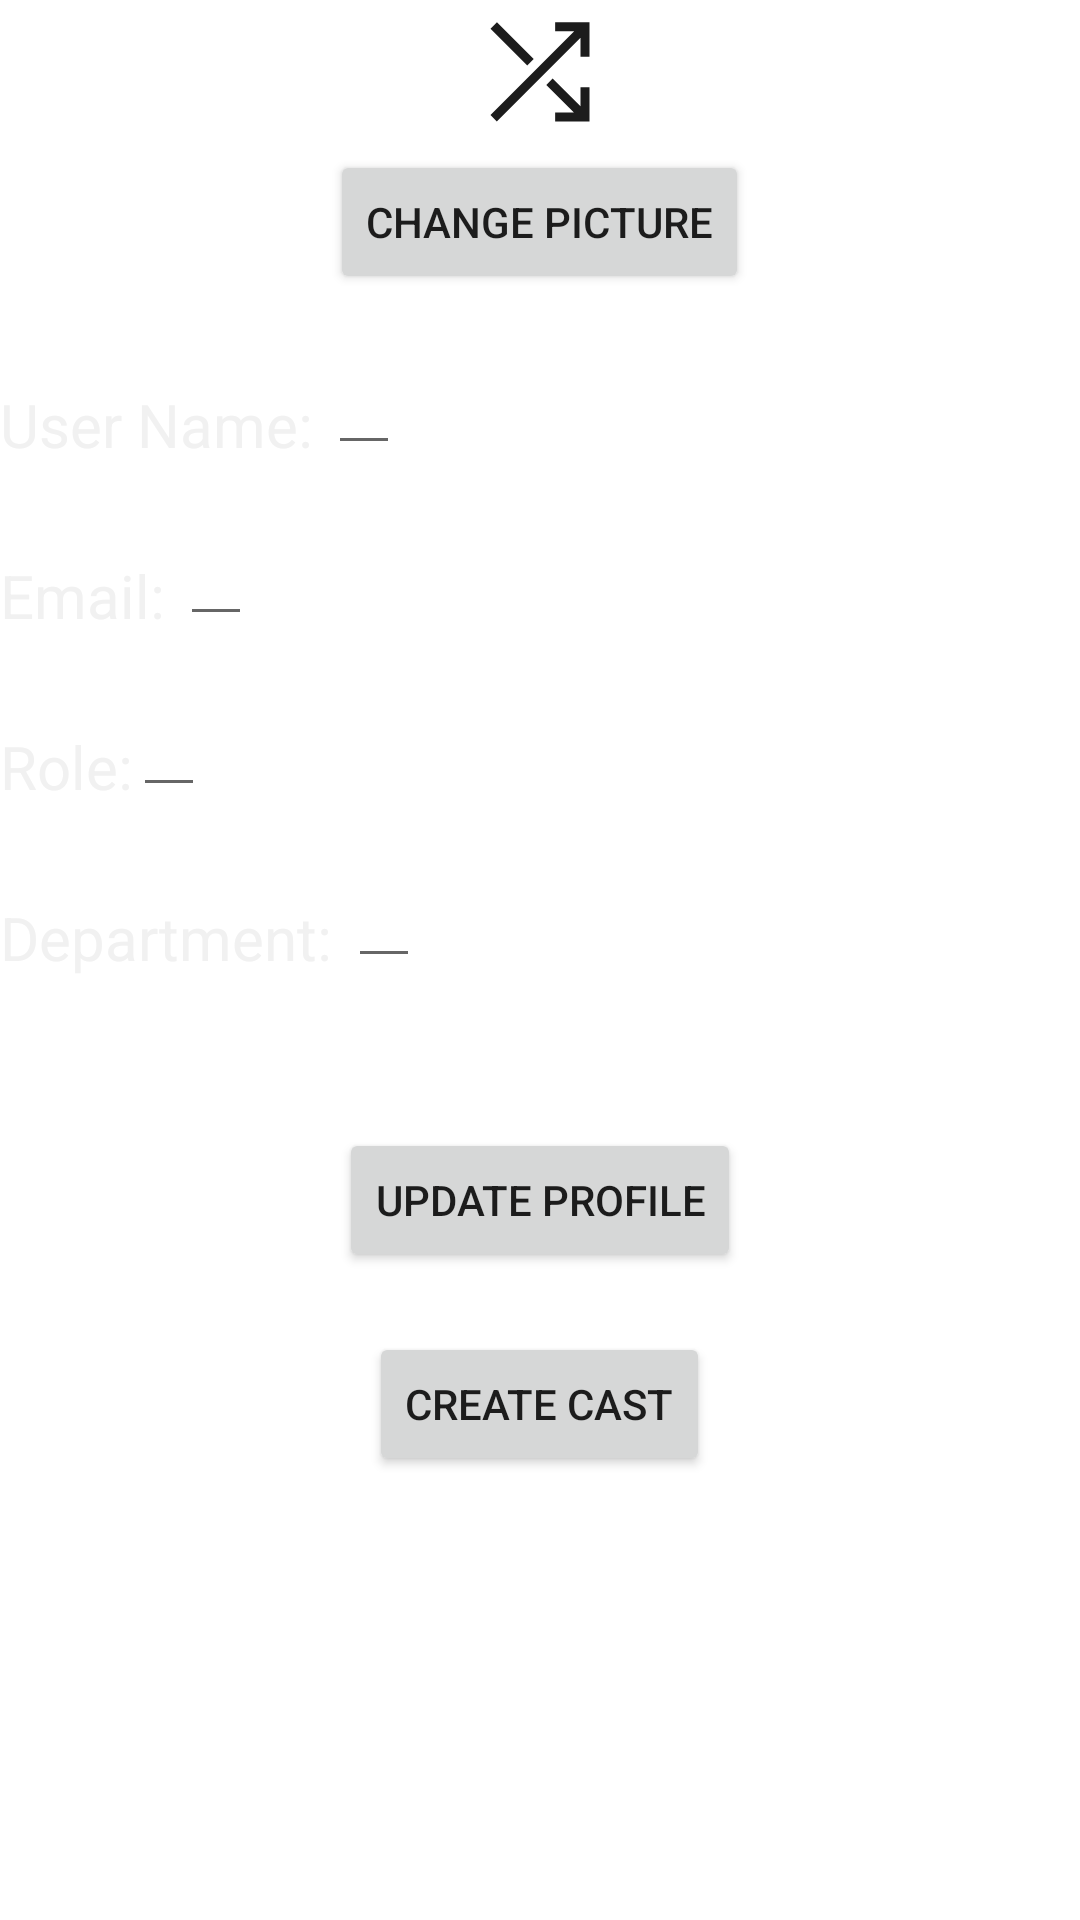

Icons on this 1080 × 1920 Android screen, each with its box as detection(x1, y1, x2, y2):
shuffle: detection(490, 22, 590, 122)
